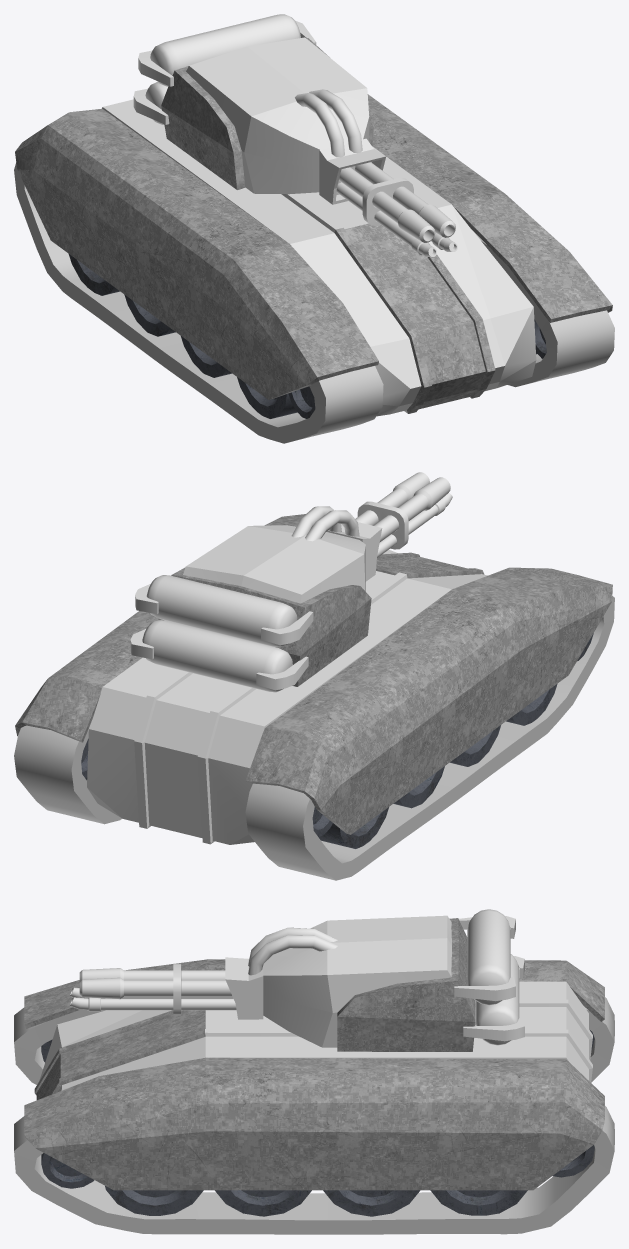
The model's file is Tank2.fbx.
3 renders of one model, top to bottom at view 1: azimuth 30°, elevation 25°; view 2: azimuth 150°, elevation 25°; view 3: azimuth 270°, elevation 25°, orthographic. The views are drawn at different scales.
Visible parts, largest first — view 1: Lid_low, Tank_hull_low, Tank_caterpillar_low, Tank_turret_low, Tank_hull_1_low, Armor_low, Gas_cylinders_low, Tubes_low, Fiery_barrel_1_low, Pipe_base_low, Fiery_barrel_2_low, Gas_tube_1_low (+8 smaller); view 2: Lid_low, Tank_hull_low, Tank_caterpillar_low, Gas_cylinders_low, Tank_turret_low, Armor_low, Tank_hull_1_low, Tubes_low, Fiery_barrel_1_low, Holders_2_low, Holders_1_low, Wheel_2.2_low (+8 smaller); view 3: Lid_low, Tank_caterpillar_low, Tank_hull_low, Tank_turret_low, Armor_low, Tank_hull_1_low, Gas_cylinders_low, Fiery_barrel_2_low, Gas_tube_2_low, Tubes_low, Pipe_base_low, Wheel_2.5_low (+9 smaller).
Boxes of the visible parts, x1,y1,x2,y2 form: Lid_low: [15, 94, 612, 399]; Tank_hull_low: [102, 99, 536, 416]; Tank_caterpillar_low: [14, 162, 614, 443]; Tank_turret_low: [186, 37, 369, 194]; Tank_hull_1_low: [334, 223, 495, 413]; Armor_low: [161, 38, 374, 189]; Gas_cylinders_low: [146, 14, 300, 124]; Tubes_low: [295, 89, 362, 157]; Fiery_barrel_1_low: [339, 167, 435, 242]; Pipe_base_low: [319, 138, 386, 204]; Fiery_barrel_2_low: [355, 162, 455, 237]; Gas_tube_1_low: [336, 182, 436, 257]; Lid_low: [15, 514, 612, 834]; Tank_hull_low: [87, 549, 487, 844]; Tank_caterpillar_low: [14, 596, 614, 880]; Gas_cylinders_low: [142, 575, 297, 692]; Tank_turret_low: [183, 525, 365, 603]; Armor_low: [158, 567, 371, 686]; Tank_hull_1_low: [376, 552, 484, 578]; Tubes_low: [291, 506, 359, 541]; Fiery_barrel_1_low: [373, 477, 450, 542]; Holders_2_low: [135, 583, 313, 645]; Holders_1_low: [130, 629, 308, 690]; Wheel_2.2_low: [85, 777, 388, 848]; Lid_low: [24, 959, 604, 1190]; Tank_caterpillar_low: [14, 997, 614, 1234]; Tank_hull_low: [39, 981, 592, 1091]; Tank_turret_low: [263, 915, 451, 1047]; Armor_low: [337, 918, 475, 1051]; Tank_hull_1_low: [34, 1010, 205, 1099]; Gas_cylinders_low: [467, 909, 519, 1045]; Fiery_barrel_2_low: [79, 977, 232, 999]; Gas_tube_2_low: [70, 997, 236, 1011]; Tubes_low: [248, 927, 337, 975]; Pipe_base_low: [225, 957, 263, 1019]; Wheel_2.5_low: [105, 1186, 203, 1215].
Bounding box in the file's own units: 461 × 352 × 813.
